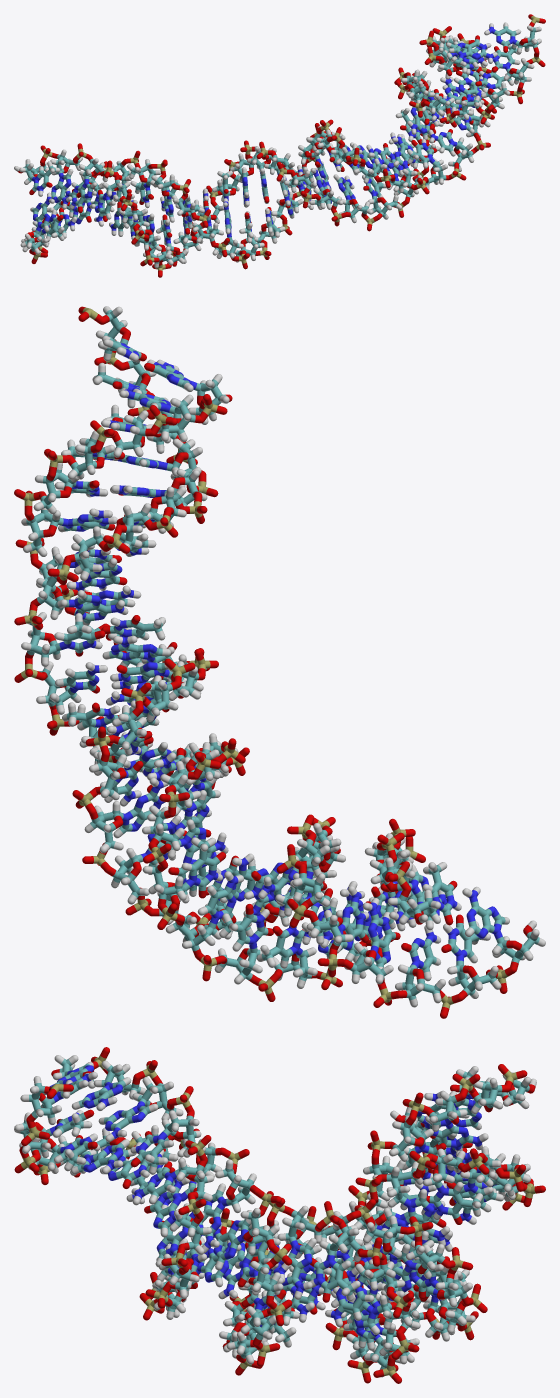
File: dna.glb
3 views of the same model, one above another, from view 1: azimuth 30°, elevation 25°; view 2: azimuth 150°, elevation 25°; view 3: azimuth 270°, elevation 25° (orthographic). The views are drawn at different scales.
Parts seen in each view (by area): view 1: Object_7, Object_5, Object_3, Object_4, Object_2, Object_6, Object_8; view 2: Object_7, Object_5, Object_3, Object_4, Object_2, Object_6, Object_8; view 3: Object_7, Object_5, Object_3, Object_4, Object_2, Object_6, Object_8.
Part boxes in pixels (box(x1,y1,x2,y2)): Object_7: box(14, 22, 541, 268); Object_5: box(25, 26, 538, 256); Object_3: box(18, 14, 545, 277); Object_4: box(23, 76, 438, 263); Object_2: box(32, 26, 517, 243); Object_6: box(33, 16, 540, 270); Object_8: box(362, 69, 458, 219); Object_7: box(21, 306, 545, 1007); Object_5: box(26, 310, 539, 1000); Object_3: box(14, 306, 532, 1018); Object_4: box(27, 548, 454, 981); Object_2: box(59, 343, 502, 968); Object_6: box(21, 307, 508, 1008); Object_8: box(21, 486, 207, 777); Object_7: box(14, 1055, 536, 1377); Object_5: box(20, 1058, 524, 1369); Object_3: box(14, 1047, 545, 1383); Object_4: box(199, 1071, 529, 1358); Object_2: box(46, 1065, 496, 1340); Object_6: box(21, 1055, 535, 1377); Object_8: box(100, 1125, 299, 1364).
Bounding box in the file's own units: 12.24 × 8.16 × 9.1.
